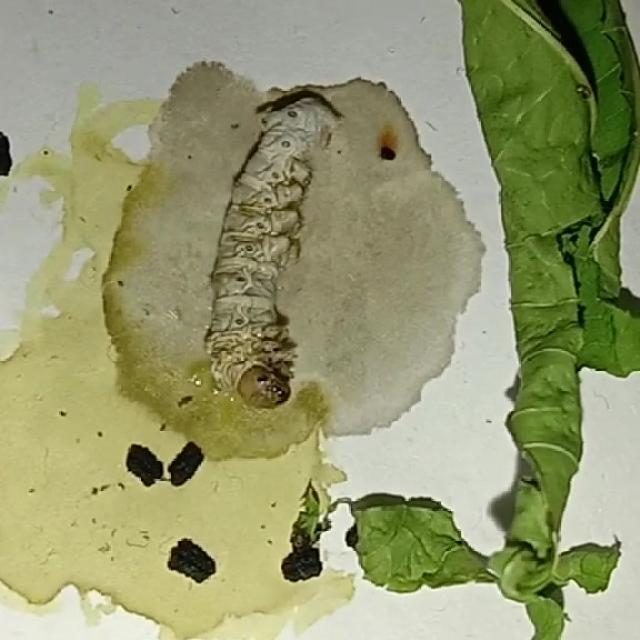Grasserie: (192, 69, 344, 420)
